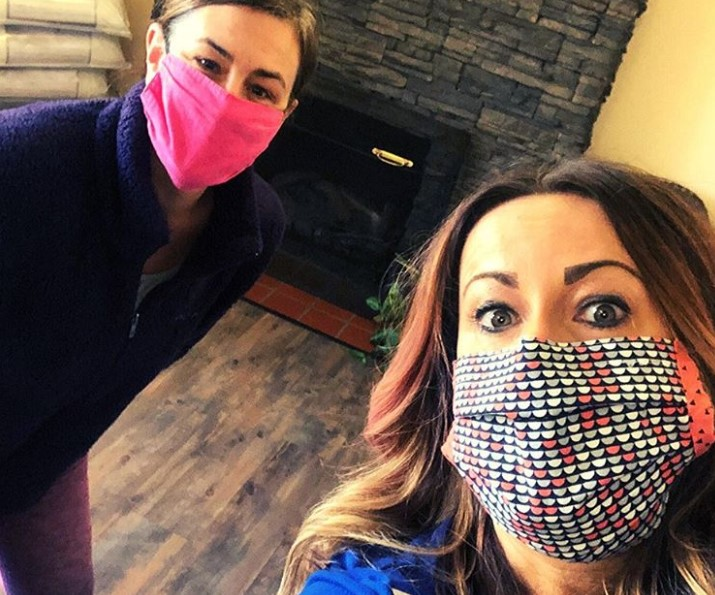face_with_mask: (440, 178, 715, 575), (142, 5, 314, 198)
